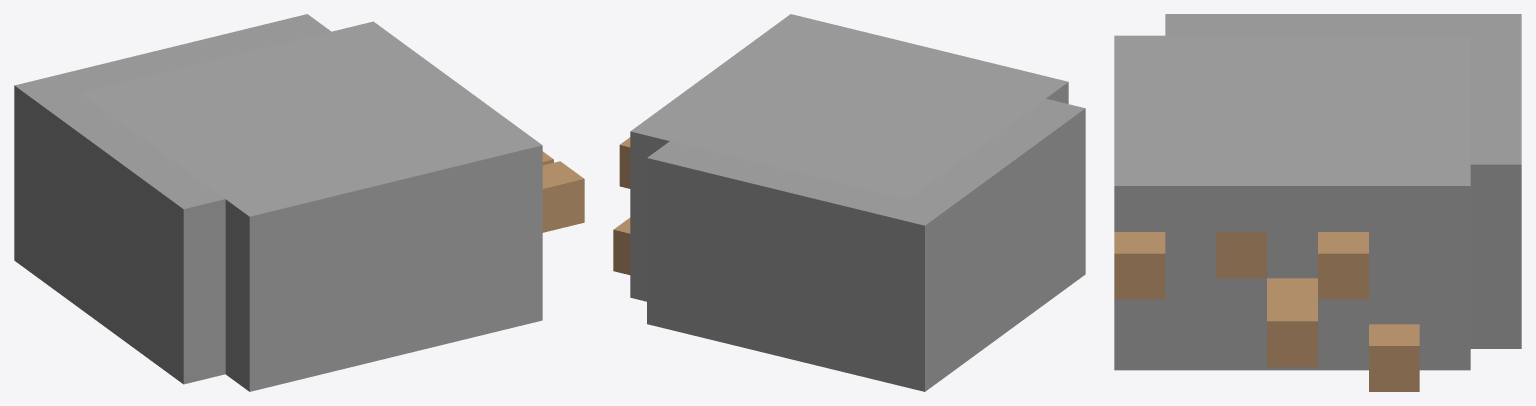
File: veta_cobre_02.glb
3 views of the same model, side by side, from view 1: azimuth 30°, elevation 25°; view 2: azimuth 150°, elevation 25°; view 3: azimuth 270°, elevation 25° (orthographic). The views are drawn at different scales.
Parts seen in each view (by area): view 1: veta_cobre_02; view 2: veta_cobre_02; view 3: veta_cobre_02.
Part boxes in pixels (<box>): veta_cobre_02: <box>14,14,584,391</box>; veta_cobre_02: <box>613,14,1085,391</box>; veta_cobre_02: <box>1114,14,1521,391</box>.
Bounding box in the file's own units: 1 × 0.4 × 0.8.
